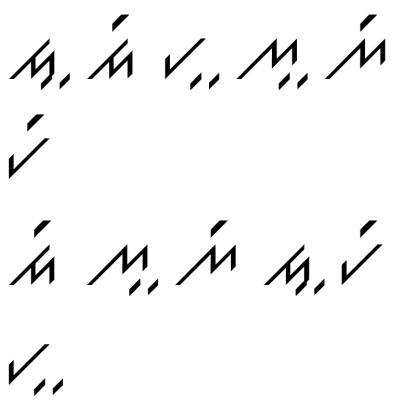dah: (6, 28, 74, 96), (256, 233, 327, 298)
dang: (84, 9, 144, 85), (7, 219, 65, 290)
nah: (235, 30, 311, 98), (82, 234, 160, 300)
nang: (174, 217, 240, 286), (326, 12, 390, 82)
pah: (3, 334, 70, 400), (155, 29, 224, 92)
pang: (337, 217, 392, 285), (6, 112, 56, 184)
